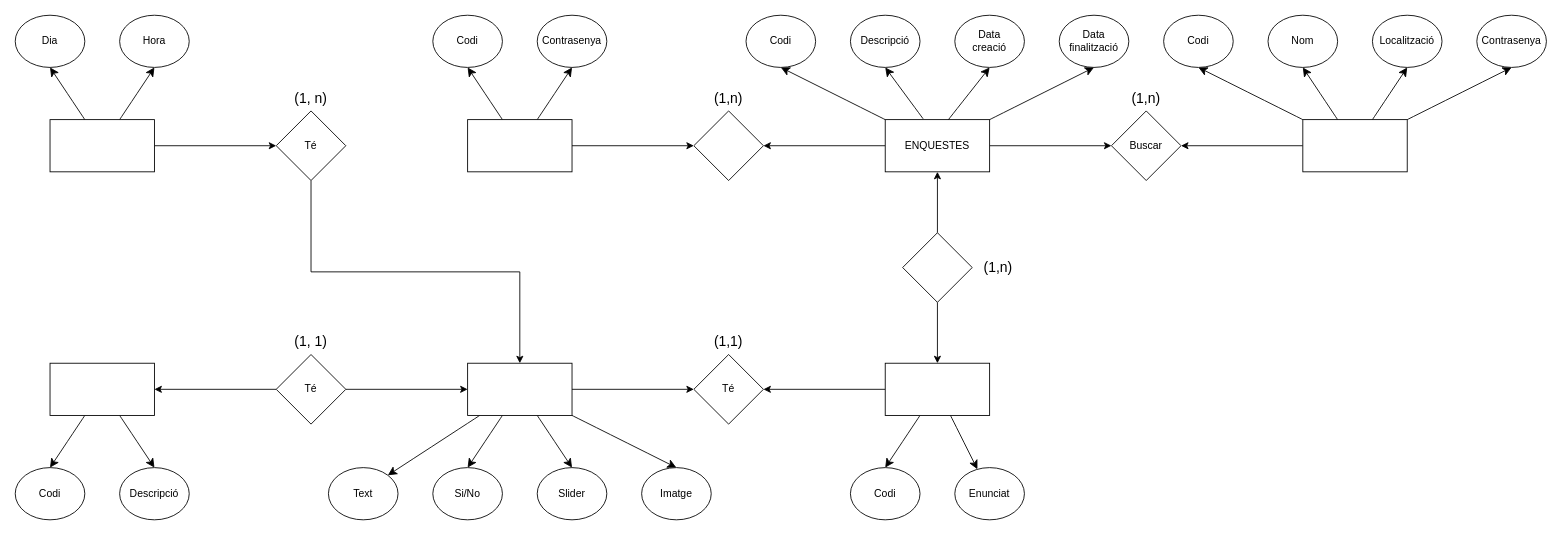
Some shapes in this 1562 by 535 pixel diagram are drawn without their labels. The shapes that lost their labels are listed below. From the top down, each one's centre as x and y in pixels, then its label:
point 101,145: RESPOSTES
point 519,145: AGENTS
point 728,145: Realitza
point 1354,145: ENQUESTADORS
point 937,267: Composta
point 101,388: OPCIONS
point 519,388: TIPUS
point 937,388: PREGUNTES
